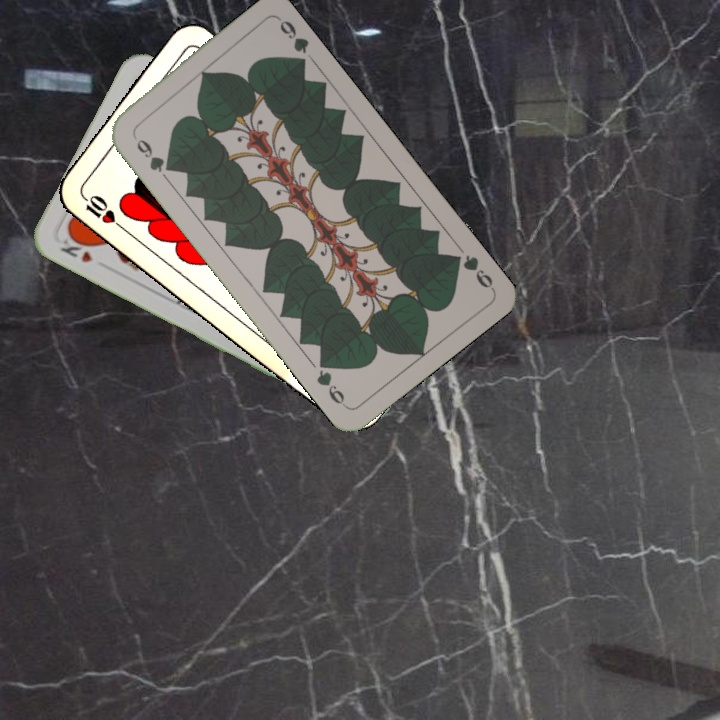G9: (128, 130, 176, 181), (446, 250, 497, 292)
H10: (77, 190, 127, 233)
HK: (56, 228, 95, 265)
